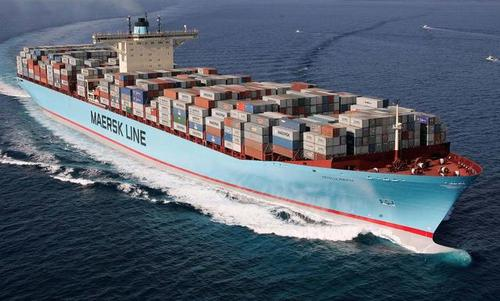Cargoship: (12, 7, 488, 255)
